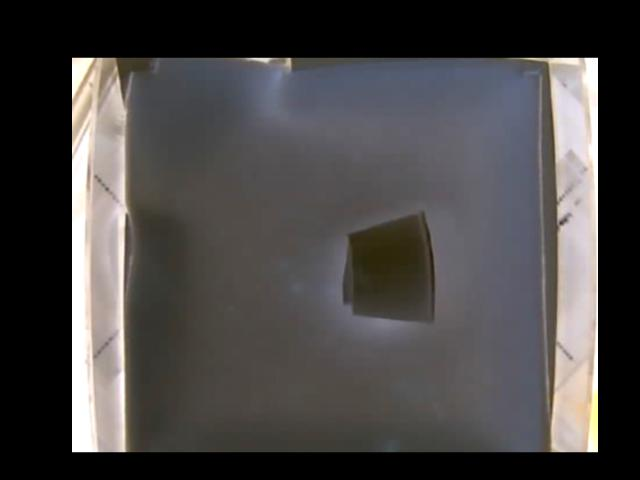Cup: (342, 210, 436, 325)
